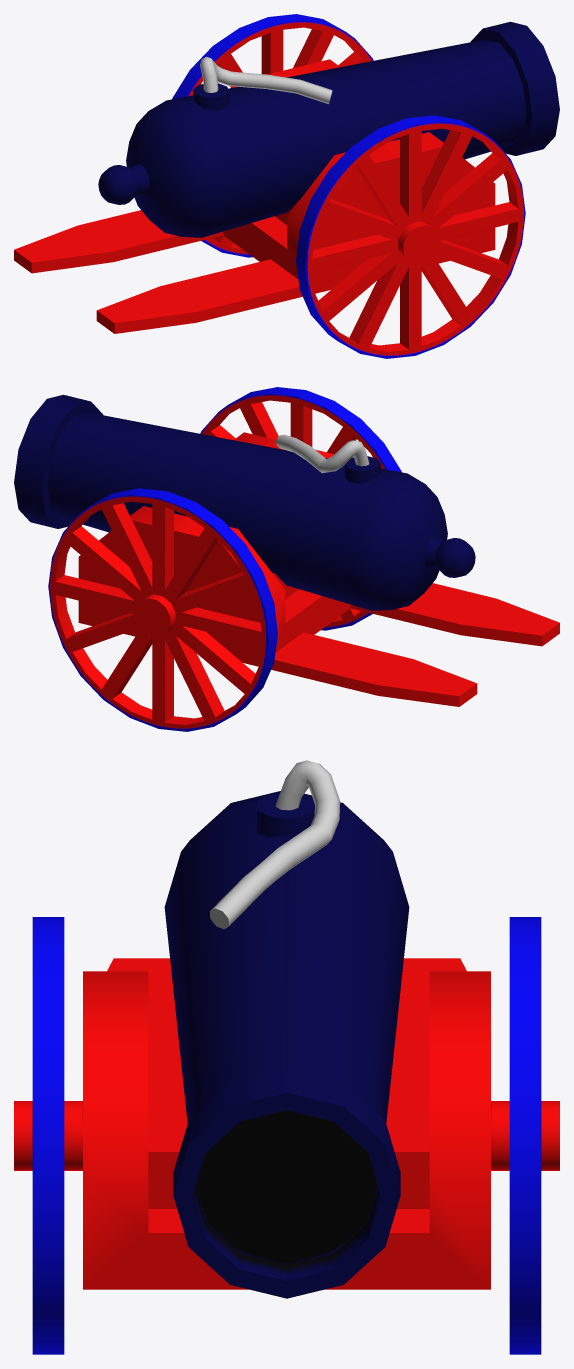
File: Cannon.fbx
The picture shows the model from 3 angles, top to bottom: view 1: azimuth 30°, elevation 25°; view 2: azimuth 150°, elevation 25°; view 3: azimuth 270°, elevation 25°; orthographic projection. The views are drawn at different scales.
Visible parts, largest first — view 1: Cannon; view 2: Cannon; view 3: Cannon.
Boxes of the visible parts, <box> form: Cannon: <box>14,14,559,358</box>; Cannon: <box>14,387,559,731</box>; Cannon: <box>14,760,559,1354</box>.
Bounding box in the file's own units: 294 × 164 × 174.
2 materials, 1 textured.
